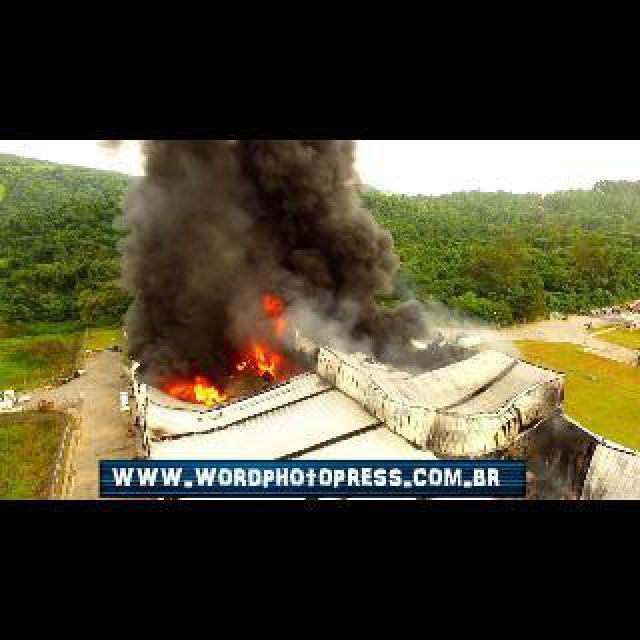Fire: (162, 372, 230, 408), (238, 342, 284, 378), (264, 294, 286, 340)
Smoke: (288, 140, 458, 358), (114, 140, 250, 372)
